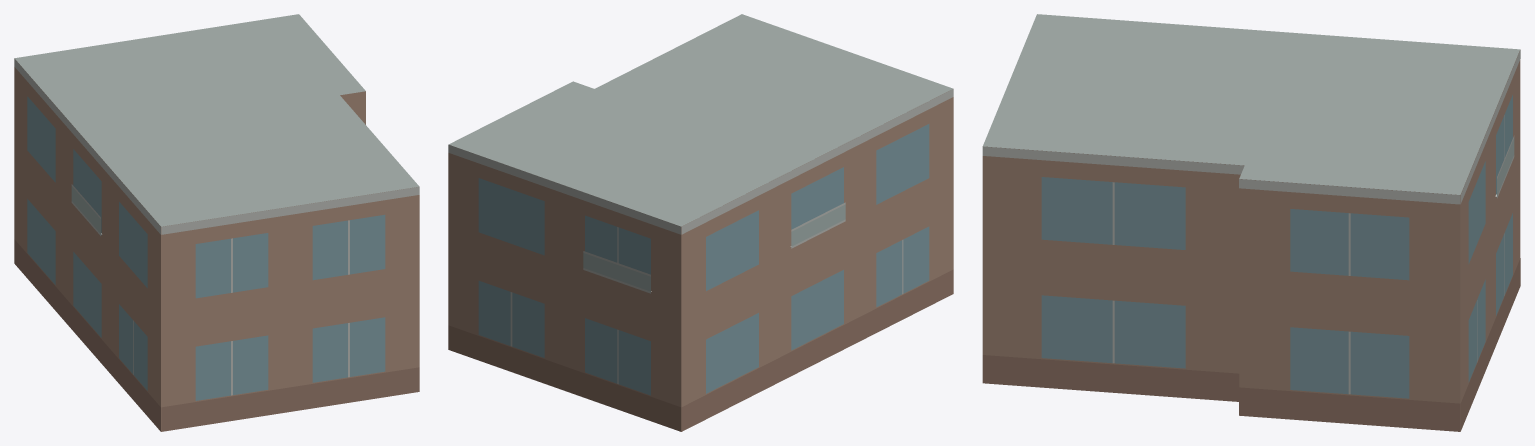
Rendered from survey-upis-32909998.glb.
3 views of the same model, side by side, from view 1: azimuth 30°, elevation 25°; view 2: azimuth 150°, elevation 25°; view 3: azimuth 270°, elevation 25° (orthographic). The views are drawn at different scales.
Parts seen in each view (by area): view 1: survey-upis-32909998.tmp; view 2: survey-upis-32909998.tmp; view 3: survey-upis-32909998.tmp.
Boxes of the visible parts, x1,y1,x2,y2 form: survey-upis-32909998.tmp: (14, 14, 419, 431); survey-upis-32909998.tmp: (448, 14, 953, 431); survey-upis-32909998.tmp: (982, 14, 1520, 431).
Bounding box in the file's own units: 10.01 × 6.1 × 12.57.
